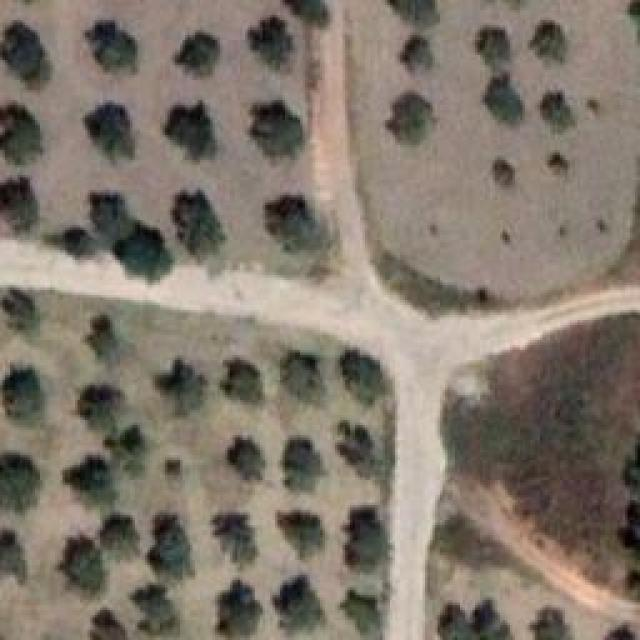Tree: (258, 190, 330, 264), (118, 580, 193, 639), (280, 432, 333, 501), (110, 425, 167, 488), (168, 105, 224, 167), (328, 418, 384, 480), (143, 512, 194, 580), (175, 193, 229, 256), (0, 22, 51, 87), (338, 337, 388, 403), (270, 573, 324, 634), (620, 430, 640, 593), (55, 533, 106, 596), (248, 15, 297, 77), (273, 510, 326, 565), (213, 503, 261, 563), (218, 358, 267, 416), (228, 435, 273, 498), (85, 188, 136, 243), (250, 103, 300, 159), (63, 458, 113, 514), (168, 28, 220, 81), (215, 580, 260, 640), (2, 365, 45, 427), (83, 103, 133, 156), (480, 70, 529, 124), (0, 99, 38, 168), (538, 90, 586, 144), (338, 510, 382, 568), (0, 172, 40, 235), (160, 360, 204, 417), (85, 20, 135, 70), (98, 515, 144, 569), (383, 95, 432, 145), (350, 590, 398, 640), (78, 380, 125, 430), (120, 225, 166, 274), (525, 8, 569, 58), (277, 353, 321, 403), (0, 522, 34, 586), (0, 453, 36, 513), (532, 597, 582, 640), (384, 0, 444, 34), (470, 600, 520, 640), (87, 315, 125, 363), (55, 225, 95, 269), (2, 290, 40, 336), (475, 23, 511, 68), (395, 37, 436, 75), (438, 600, 474, 640), (598, 607, 640, 639), (290, 0, 335, 29), (485, 150, 516, 189), (545, 150, 576, 181), (83, 607, 112, 639)
